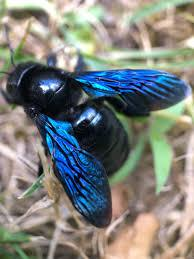Xylocopa: (4, 34, 193, 227)
